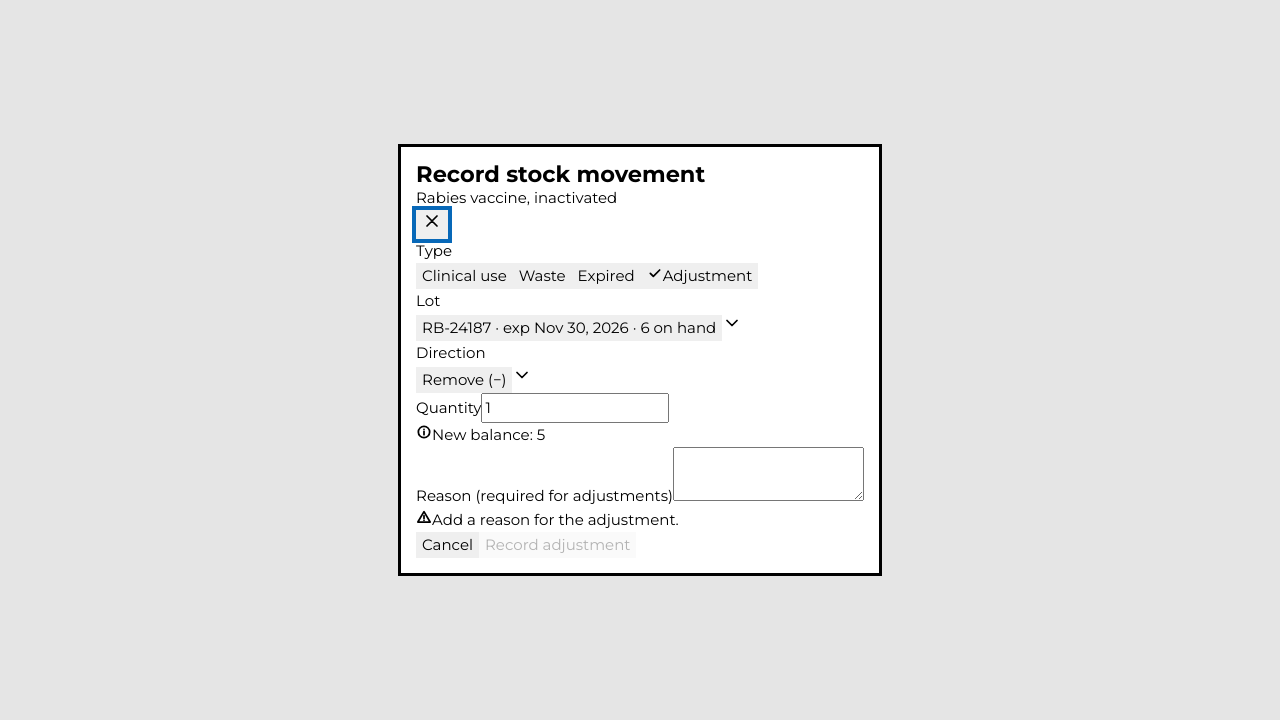
it: StockMovementModal fields › changes the lot and updates the balance
The image size is (1280, 720).
Click the dropdown named "Lot" at coordinates (569, 328), box left=416, top=315, right=722, bottom=341
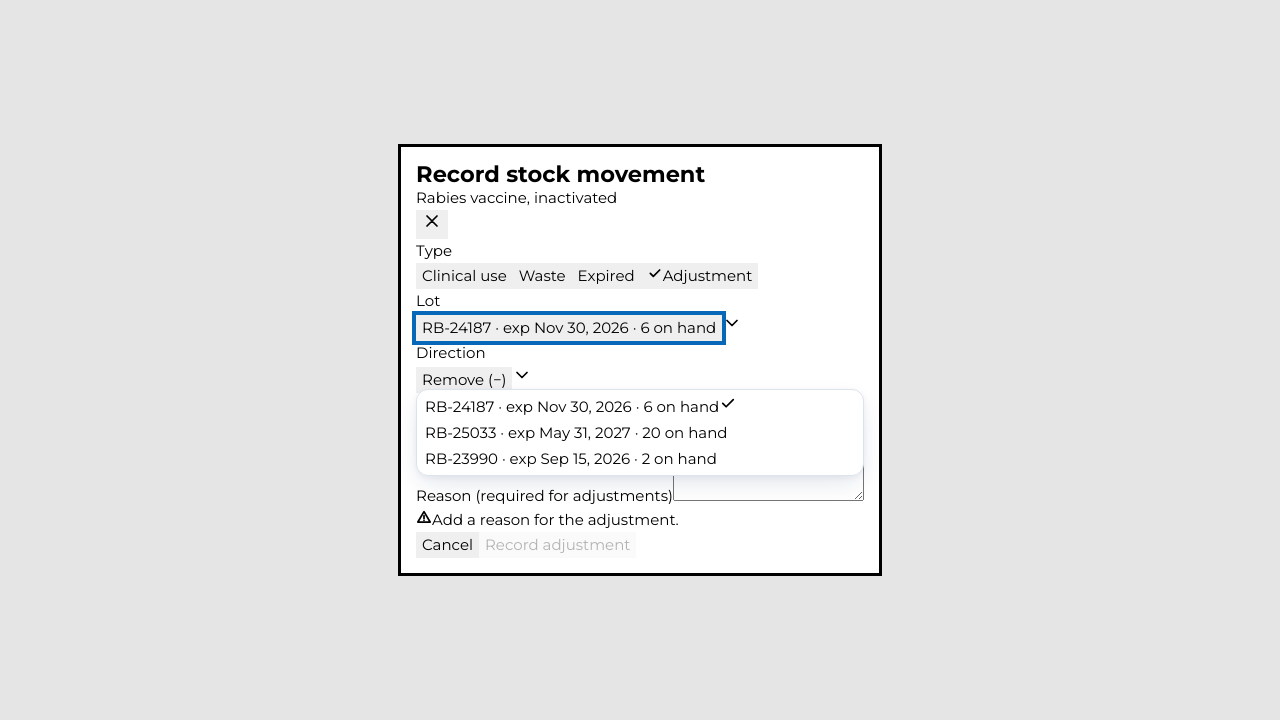
Click the option "RB-25033 · exp May 31, 2027 · 20 on hand" at coordinates (576, 432), box left=425, top=422, right=728, bottom=442
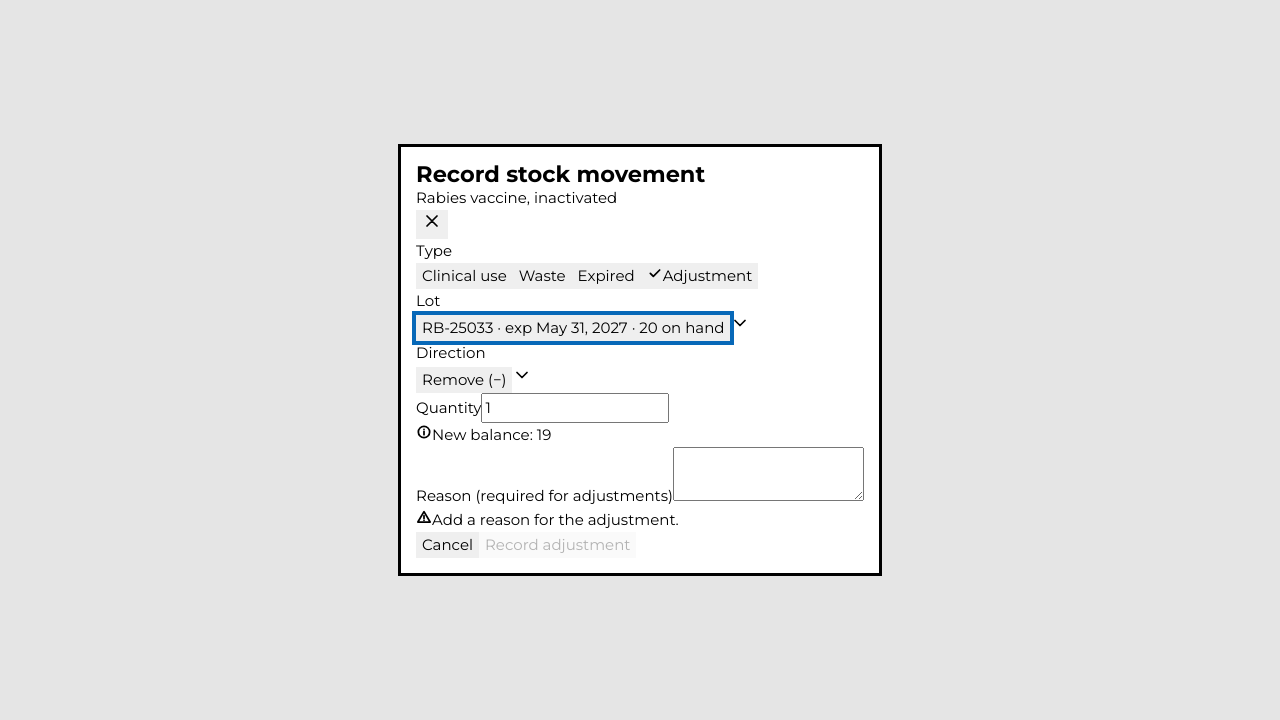
Now the text "New balance: 19" is shown, box left=432, top=425, right=551, bottom=444
